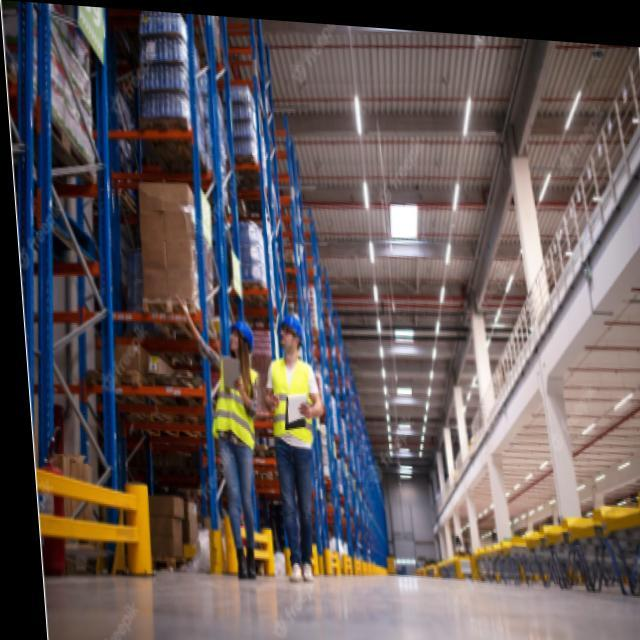hard_hat: (277, 314, 307, 358), (227, 318, 256, 363)
shoes: (229, 539, 264, 584)
vest: (205, 350, 266, 455), (268, 352, 321, 451)
